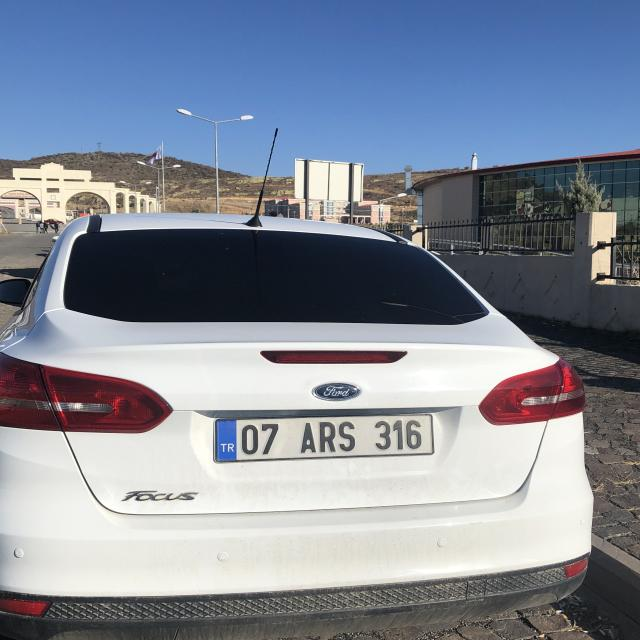license_plate: (216, 418, 431, 460)
